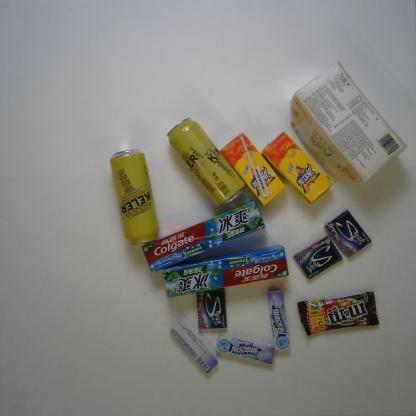Alcohol: (165, 117, 245, 207), (110, 148, 160, 245)
Candy: (168, 320, 218, 374), (216, 335, 277, 365), (268, 291, 290, 351)
Chocolate: (296, 291, 380, 337)
Drink: (261, 132, 333, 204), (219, 131, 285, 206)
Gum: (324, 208, 372, 258), (292, 234, 343, 281), (195, 288, 227, 330)
Personal Hygiene: (141, 200, 267, 273), (162, 244, 289, 298)
Tissue: (290, 61, 408, 183)
